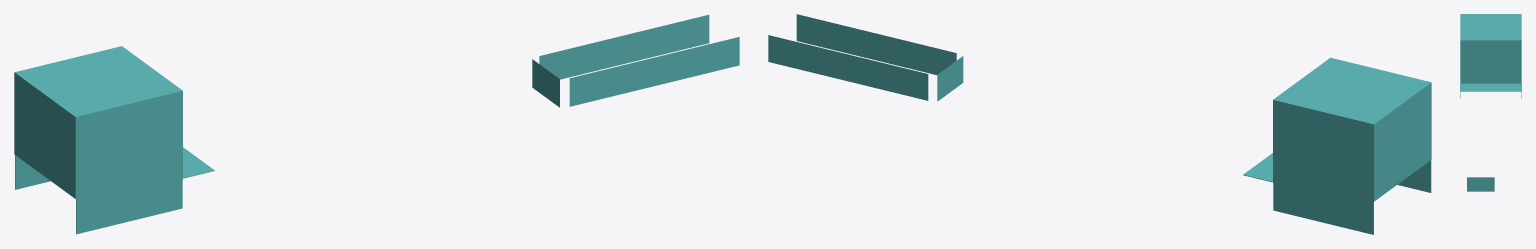
The model's file is 2glass.glb.
3 renders of one model, left to right at view 1: azimuth 30°, elevation 25°; view 2: azimuth 150°, elevation 25°; view 3: azimuth 270°, elevation 25°, orthographic. The views are drawn at different scales.
Parts seen in each view (by area): view 1: DiTieKou5, DiTieKou_01_1; view 2: DiTieKou5, DiTieKou_01_1; view 3: DiTieKou5, DiTieKou_01_1.
Part boxes in pixels (x1,y1,x2,y2): DiTieKou5: (14,46,214,234); DiTieKou_01_1: (532,15,739,107); DiTieKou5: (1243,57,1431,234); DiTieKou_01_1: (768,14,963,101); DiTieKou5: (1460,14,1521,98); DiTieKou_01_1: (1467,177,1494,191).
Bounding box in the file's own units: 71.41 × 11.99 × 11.42.
